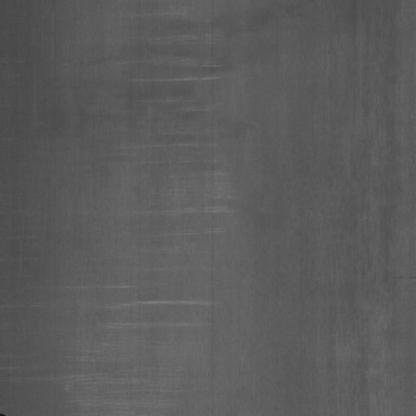waist_folding: (47, 33, 250, 382)
